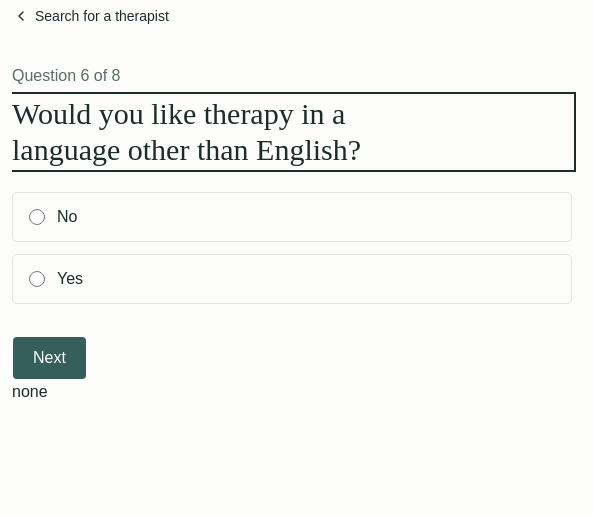
LanguageQuestion › offers the languages but English once they say yes, and forgets the one chosen once they say no
Click the radio button labelled "Yes" at (37, 279), box [29, 271, 45, 287]
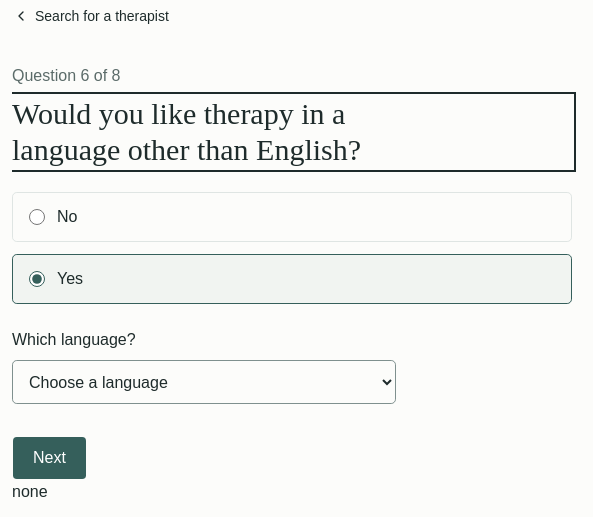
Select "Welsh" in the dropdown labelled "Which language?" at (204, 382), box [12, 360, 396, 404]
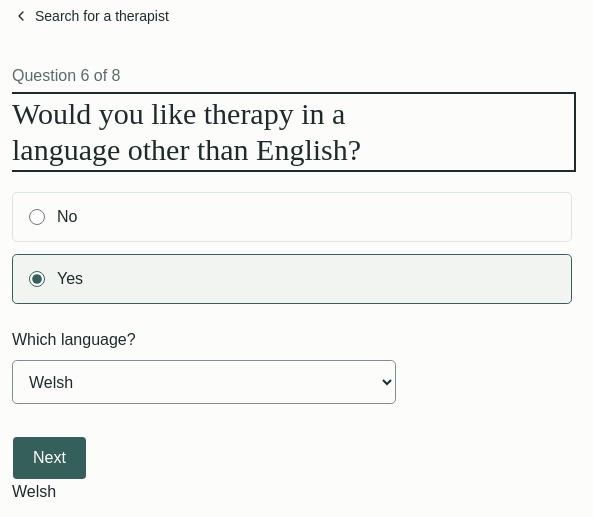
Expected: the text with test id "language" reads "Welsh", [12, 483, 56, 500]
Click the radio button labelled "No" at (37, 217), box [29, 209, 45, 225]
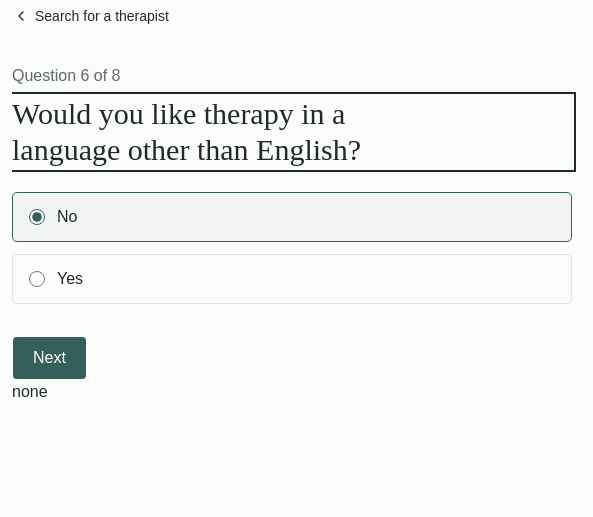
Expected: the text with test id "language" reads "none", [12, 383, 48, 400]
Expected: the dropdown is gone
